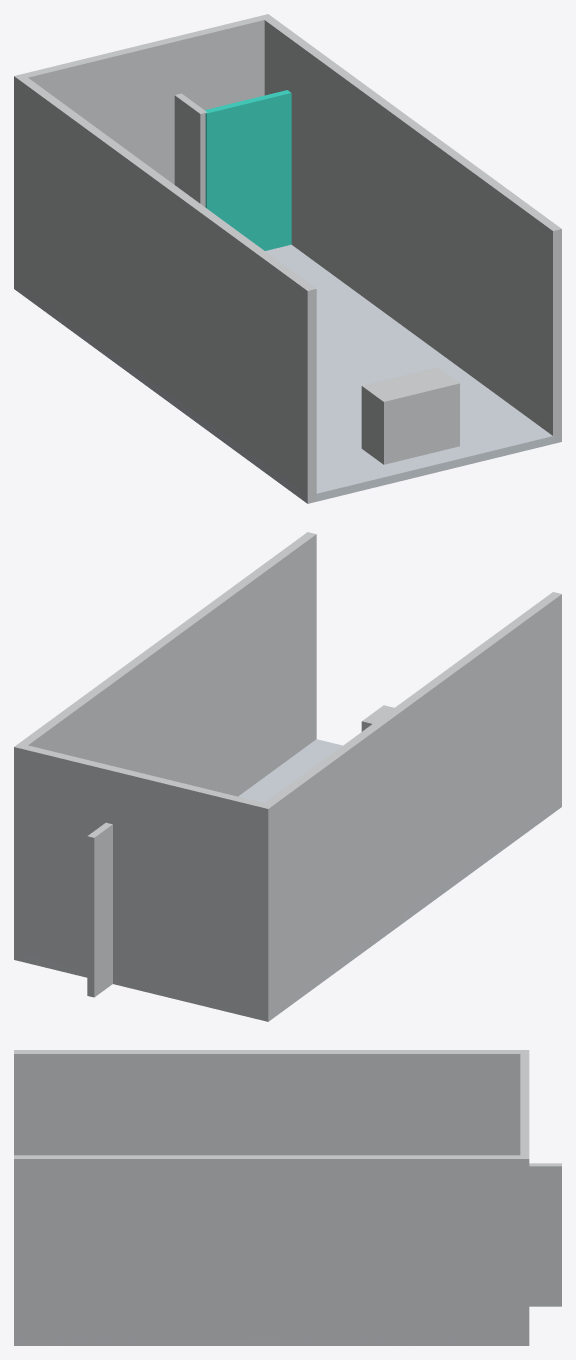
3 renders of one model, top to bottom at view 1: azimuth 30°, elevation 25°; view 2: azimuth 150°, elevation 25°; view 3: azimuth 270°, elevation 25°, orthographic. The views are drawn at different scales.
Parts seen in each view (by area): view 1: Exhibition Booth Concept; view 2: Exhibition Booth Concept; view 3: Exhibition Booth Concept.
Part boxes in pixels (x1,y1,x2,y2): Exhibition Booth Concept: (14, 14, 561, 503); Exhibition Booth Concept: (14, 532, 561, 1021); Exhibition Booth Concept: (14, 1050, 561, 1345).
Size of the model in its own units: 4 by 3.2 by 8.51.
